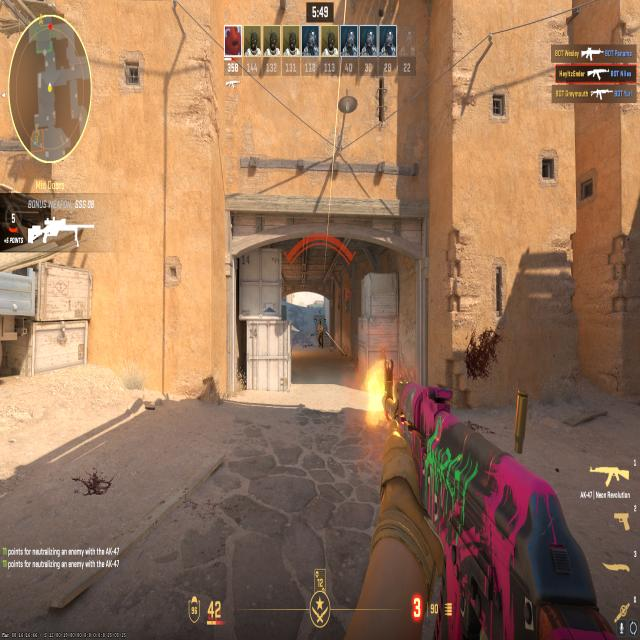t: (314, 316, 326, 346)
